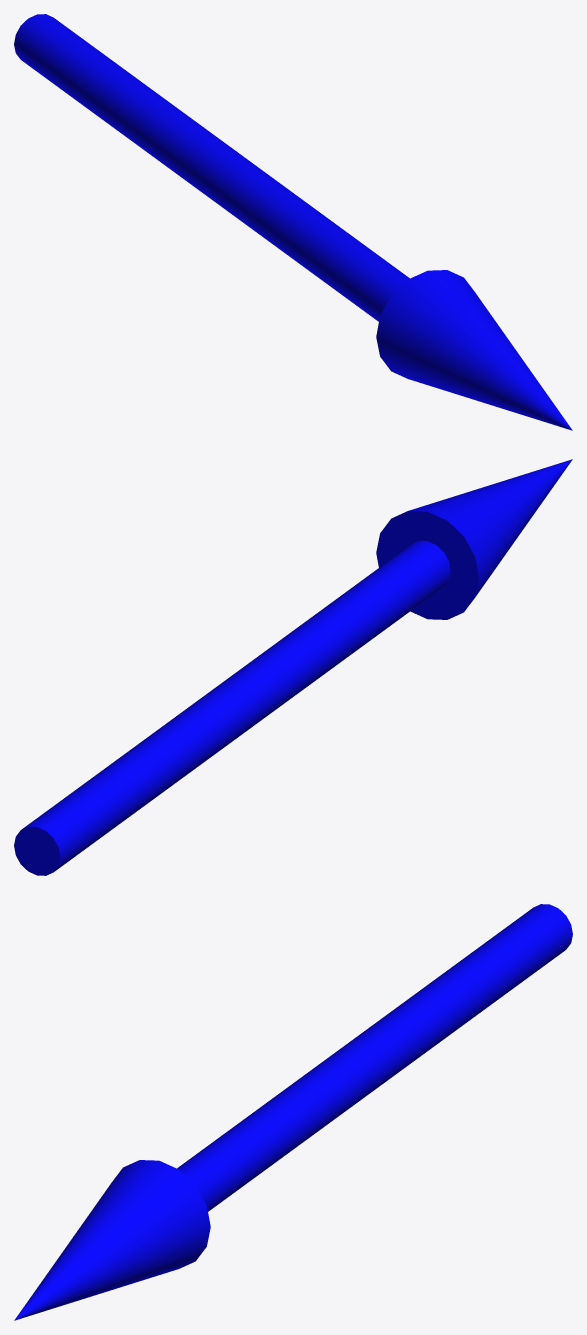
The model's file is arrowZ.glb.
3 views of the same model, one above another, from view 1: azimuth 30°, elevation 25°; view 2: azimuth 150°, elevation 25°; view 3: azimuth 330°, elevation 25° (orthographic).
Visible parts, largest first — view 1: hires.001; view 2: hires.001; view 3: hires.001.
Part boxes in pixels (x1,y1,x2,y2): hires.001: (14, 14, 572, 430); hires.001: (14, 459, 572, 875); hires.001: (14, 904, 572, 1320).
Size of the model in its own units: 0.1108 by 0.1108 by 1.
